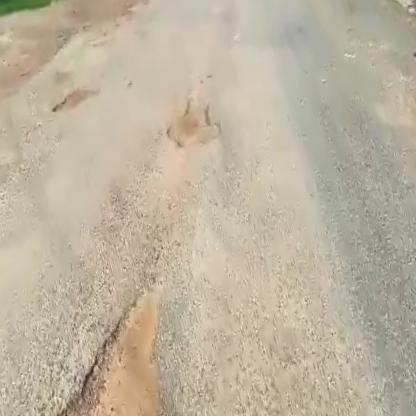pothole: (0, 269, 227, 416), (159, 93, 225, 154), (46, 81, 101, 119)
